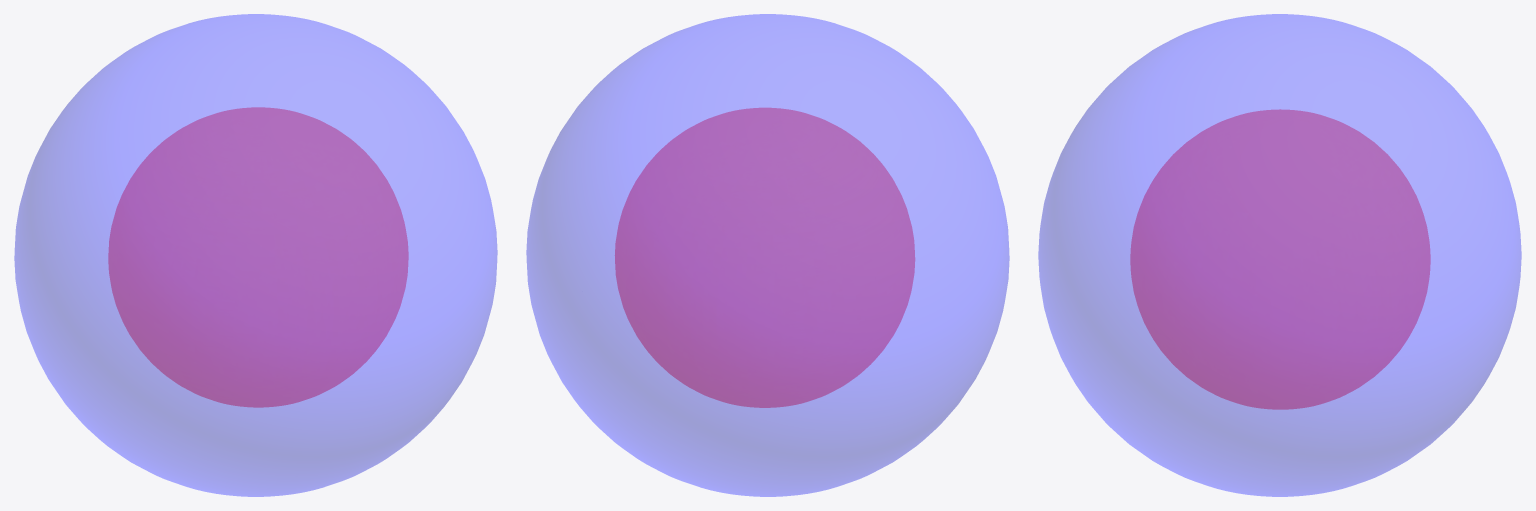
File: metaSphereMed.glb
The picture shows the model from 3 angles, left to right: view 1: azimuth 30°, elevation 25°; view 2: azimuth 150°, elevation 25°; view 3: azimuth 270°, elevation 25°; orthographic projection.
Visible parts, largest first — view 1: Sphere 2, Sphere 6 - baked; view 2: Sphere 2, Sphere 6 - baked; view 3: Sphere 2, Sphere 6 - baked.
Part boxes in pixels (x1,y1,x2,y2): Sphere 2: (14, 14, 497, 496); Sphere 6 - baked: (108, 107, 408, 407); Sphere 2: (526, 14, 1009, 496); Sphere 6 - baked: (615, 108, 914, 407); Sphere 2: (1038, 14, 1521, 496); Sphere 6 - baked: (1130, 109, 1430, 409).
Bounding box in the file's own units: 0.3749 × 0.3749 × 0.3749.
Materials: 2 (2 with a texture image).
